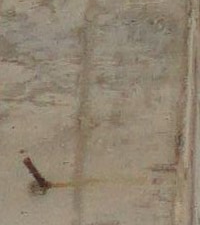Exposed reinforcement: (22, 156, 47, 188)
